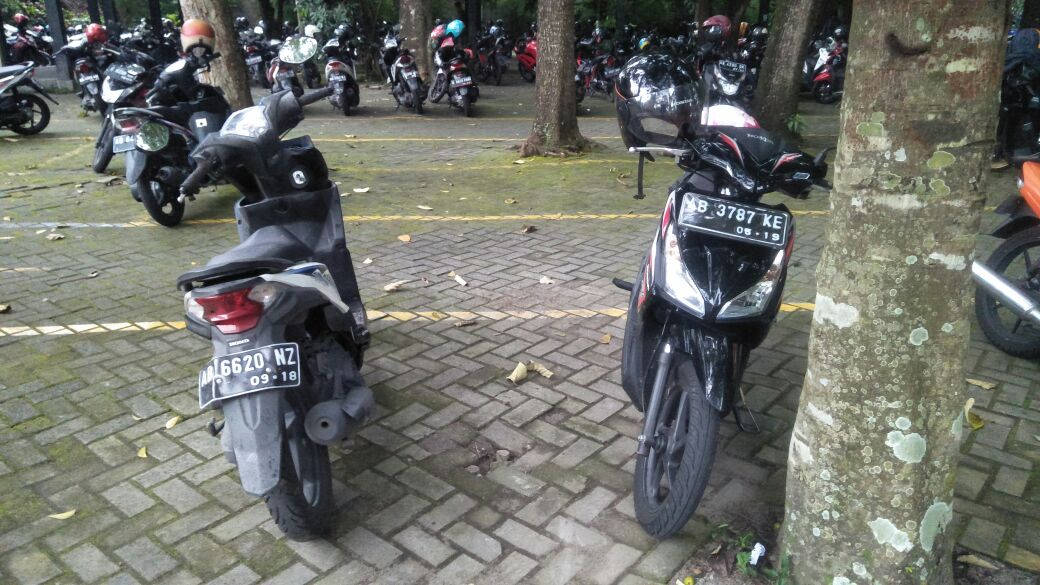plate: (197, 343, 301, 408), (679, 193, 788, 248)
